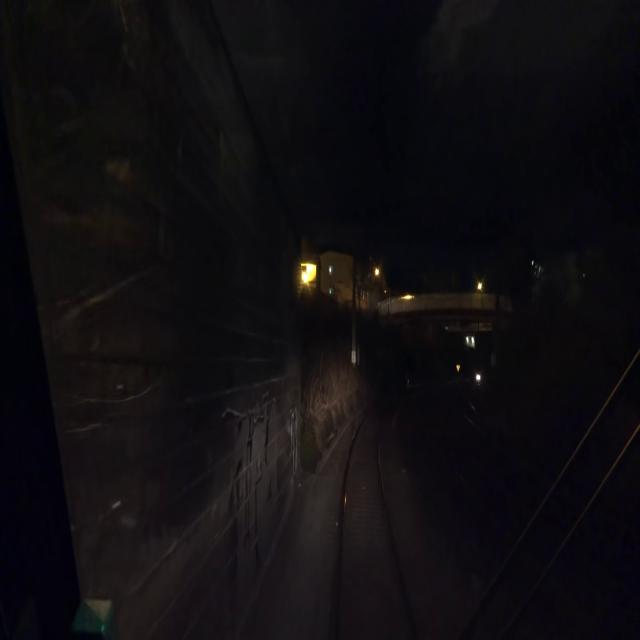rail-track: (339, 411, 413, 639)
